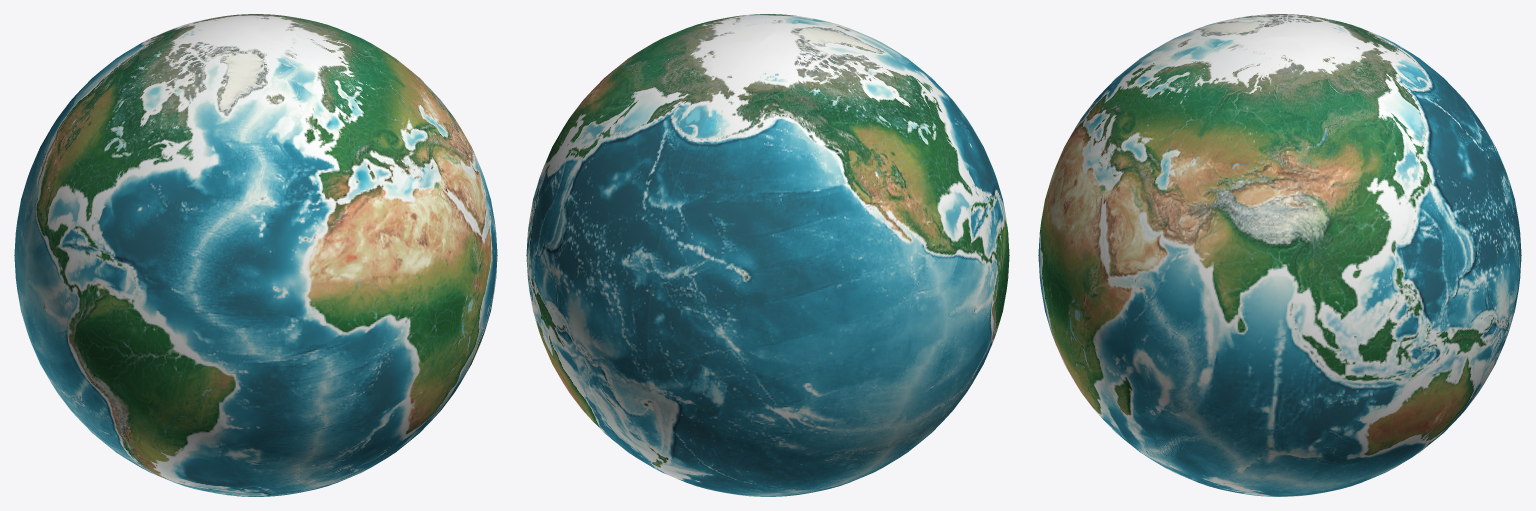
The model's file is Earth_exploded.fbx.
The picture shows the model from 3 angles, left to right: view 1: azimuth 30°, elevation 25°; view 2: azimuth 150°, elevation 25°; view 3: azimuth 270°, elevation 25°; orthographic projection.
Parts seen in each view (by area): view 1: Earth2, Earth1; view 2: Earth2, Earth1; view 3: Earth1, Earth2.
Boxes of the visible parts, box(x1,y1,x2,y2) form: Earth2: box(14, 19, 376, 496); Earth1: box(201, 14, 497, 488); Earth2: box(647, 19, 1009, 496); Earth1: box(526, 14, 822, 488); Earth1: box(1038, 36, 1521, 496); Earth2: box(1040, 14, 1519, 228).
Size of the model in its own units: 61.49 by 61.49 by 61.49.
